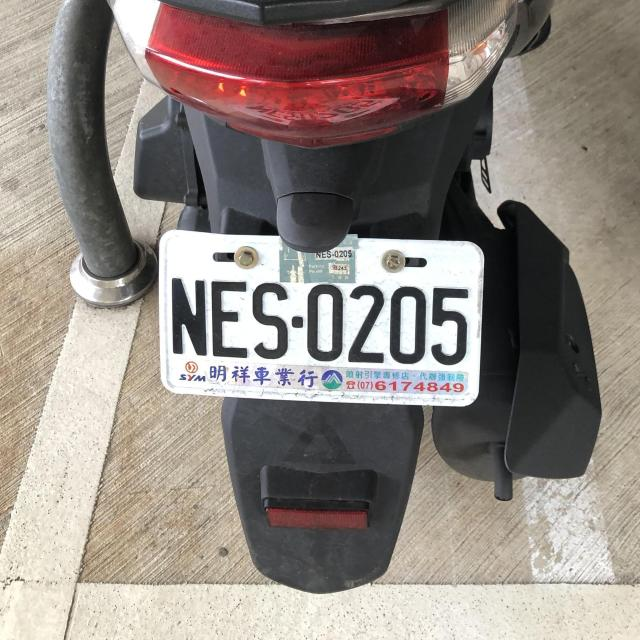W: (152, 228, 486, 408)
